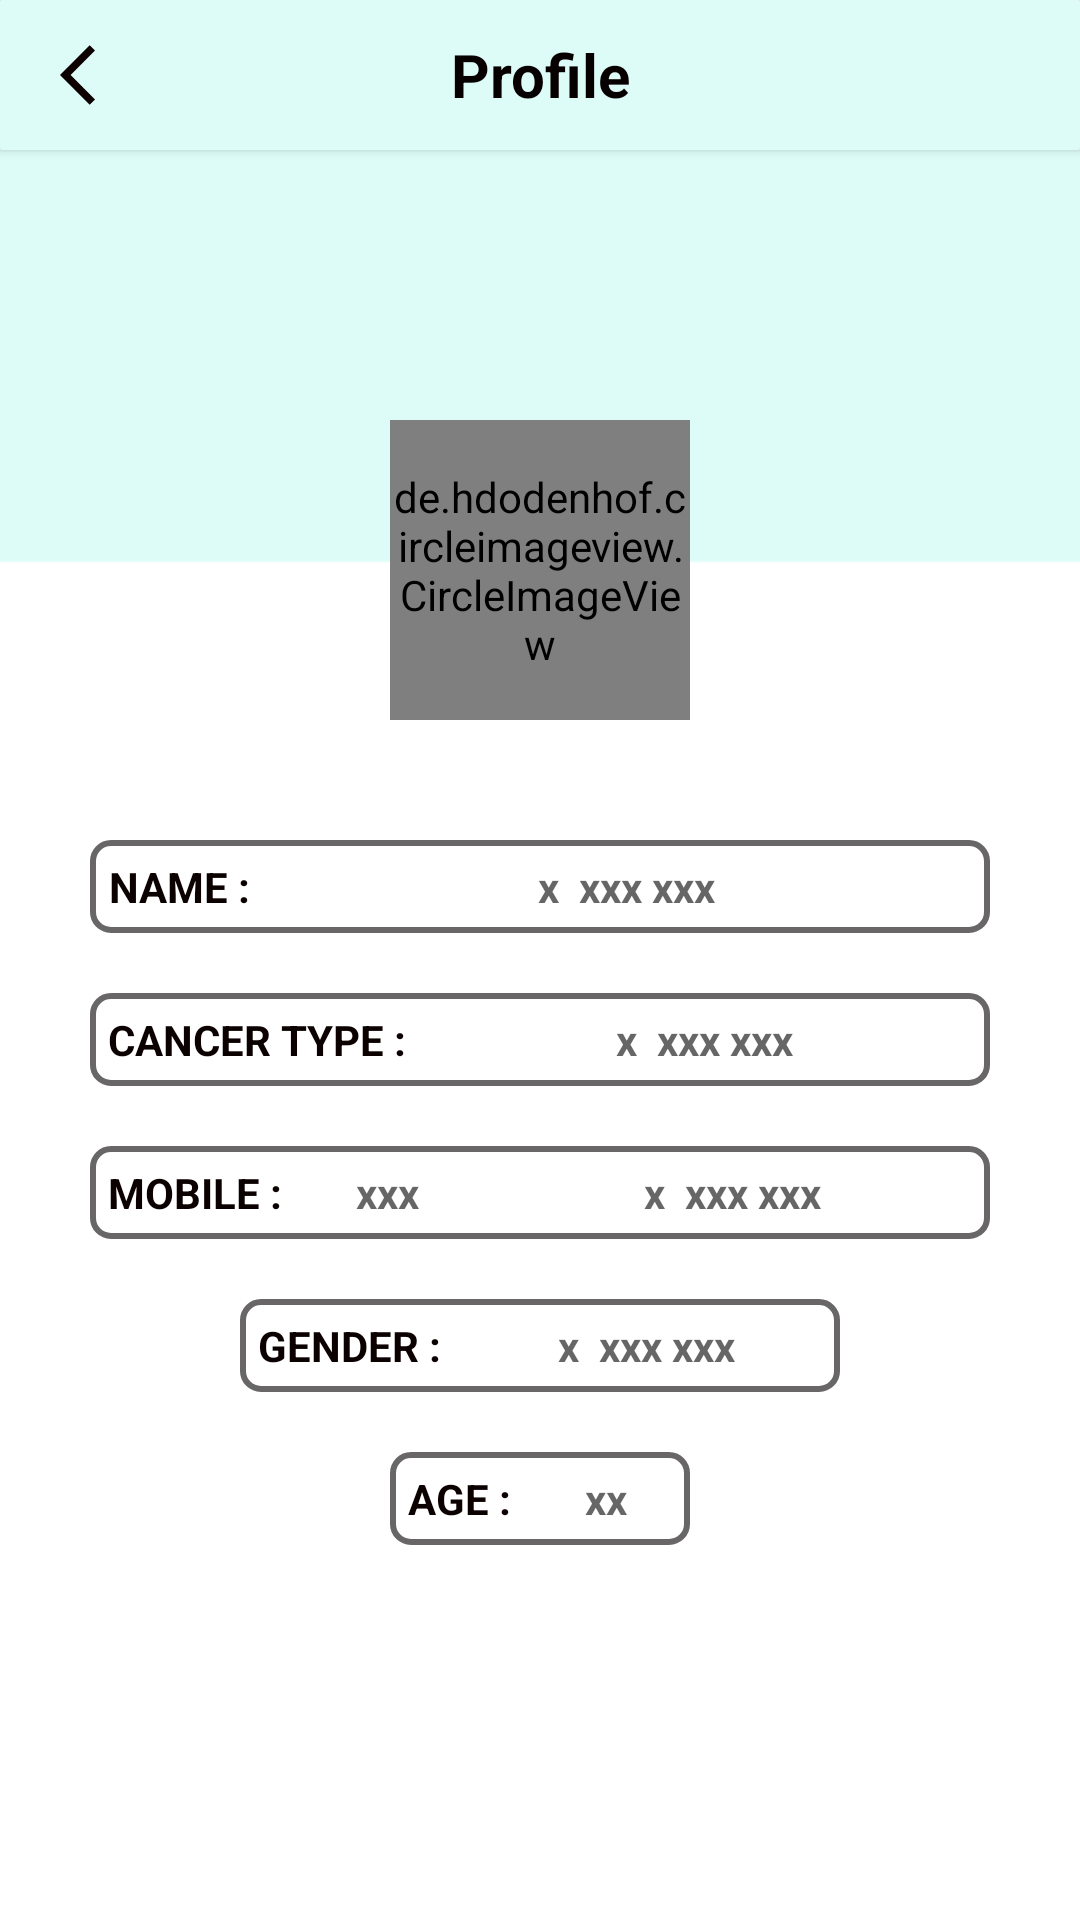

Where icons sit on this 1080x1920 app screen, as region(x1, y1, x2, y2):
back: region(60, 45, 95, 105)
